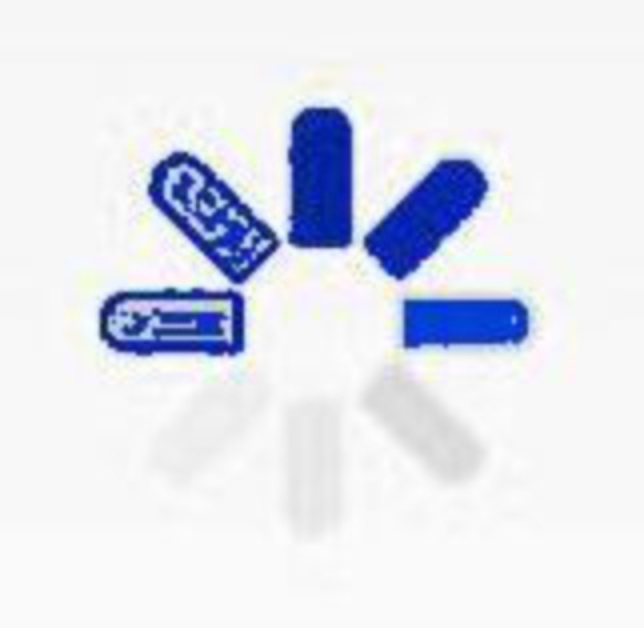ProgressBar: (1, 1, 643, 627)
